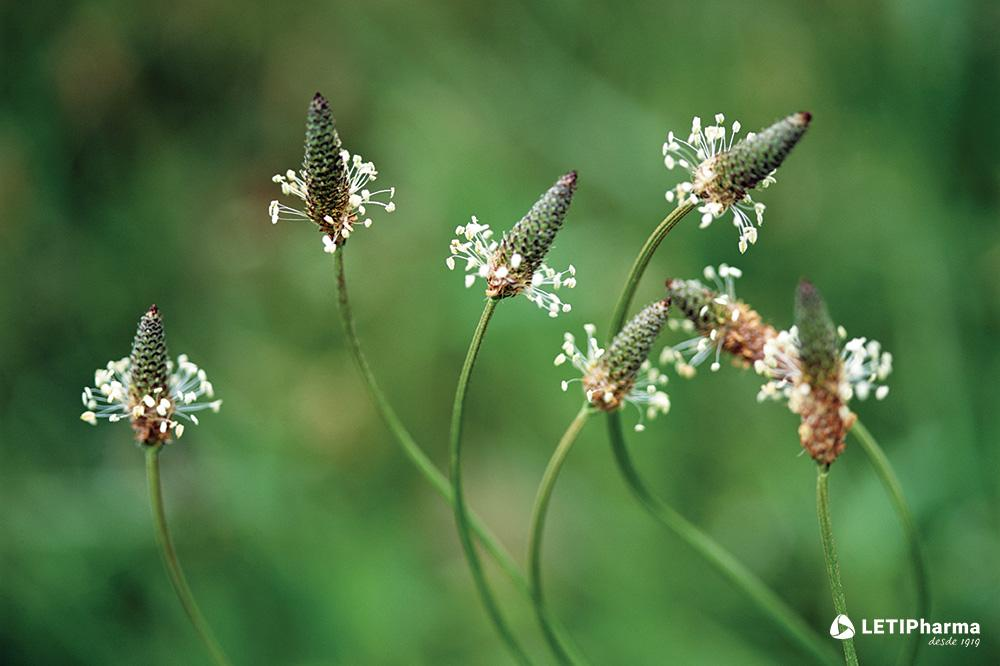buckhorn plantain: (95, 55, 979, 655)
